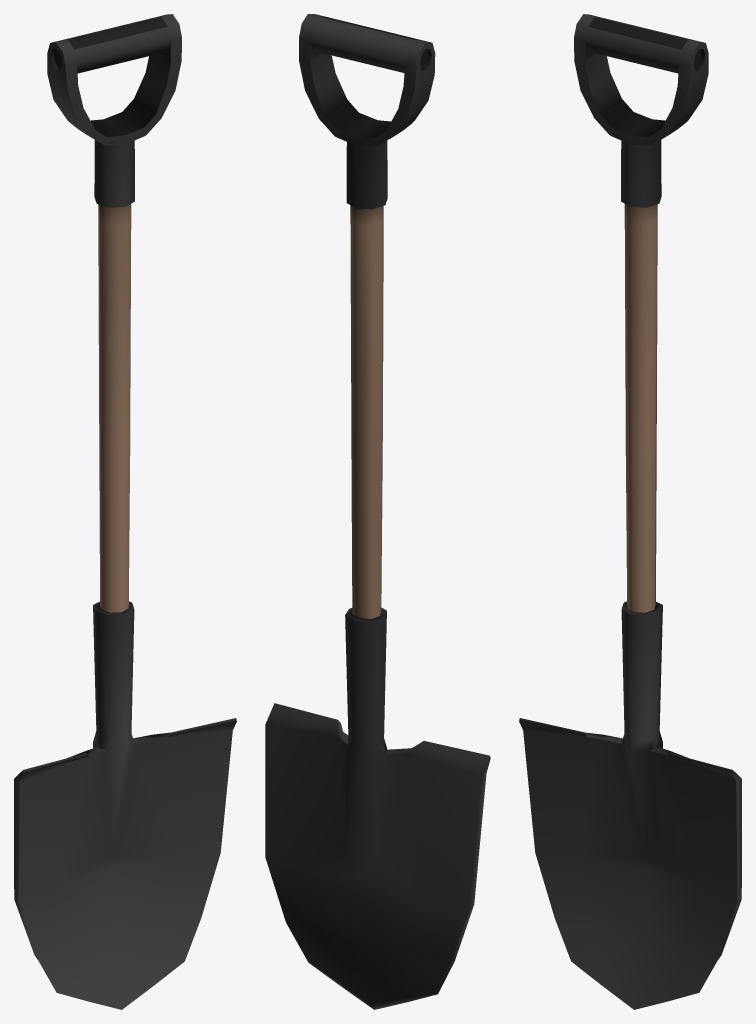
3 views of the same model, side by side, from view 1: azimuth 30°, elevation 25°; view 2: azimuth 150°, elevation 25°; view 3: azimuth 330°, elevation 25° (orthographic).
Visible parts, largest first — view 1: Shovel; view 2: Shovel; view 3: Shovel.
Boxes of the visible parts, box(x1,y1,x2,y2) form: Shovel: box(14, 14, 236, 1009); Shovel: box(265, 14, 490, 1009); Shovel: box(519, 14, 741, 1009).
Bounding box in the file's own units: 0.1147 × 0.5 × 0.0248.
